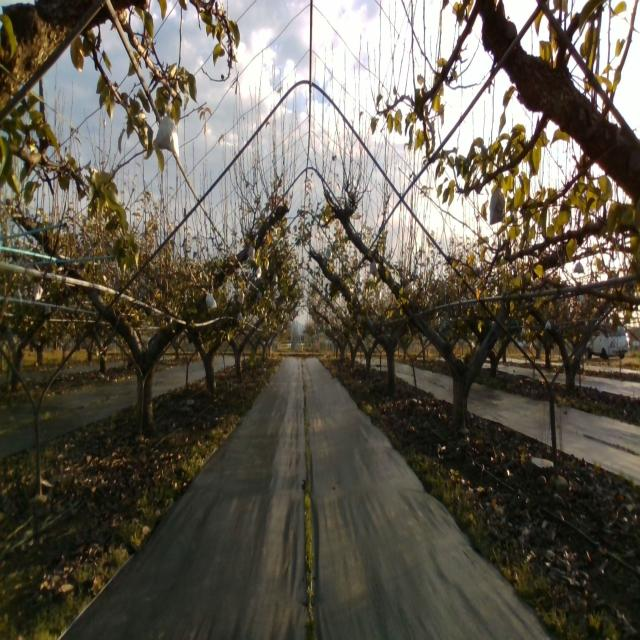pearbags: (154, 105, 177, 156), (489, 179, 506, 225), (366, 259, 378, 276)
